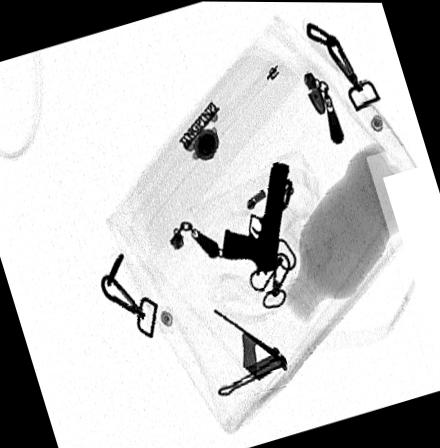Gun: (221, 162, 290, 276)
